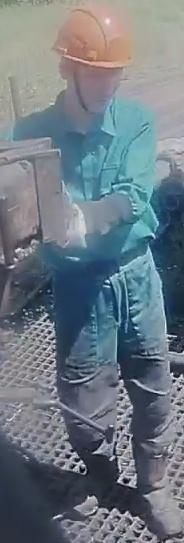gloves: (60, 178, 104, 251)
helmet: (49, 3, 137, 69)
vest: (28, 90, 157, 279)
